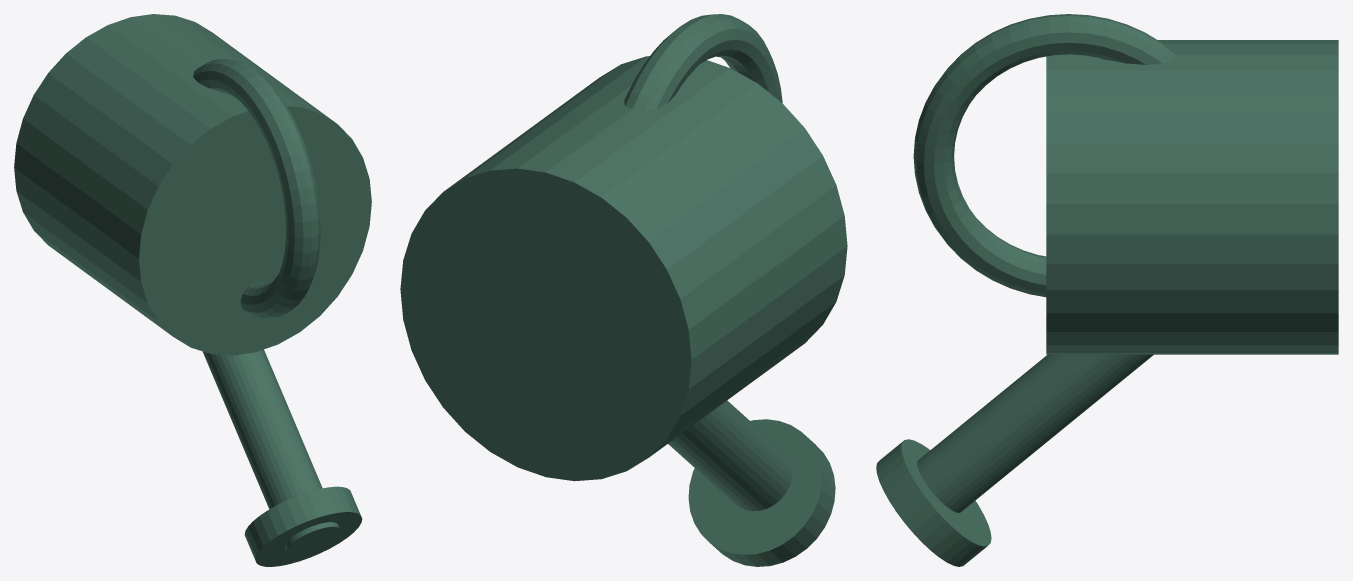
Rendered from prop_gembor.obj.
3 renders of one model, left to right at view 1: azimuth 30°, elevation 25°; view 2: azimuth 150°, elevation 25°; view 3: azimuth 270°, elevation 25°, orthographic. The views are drawn at different scales.
Parts seen in each view (by area): view 1: prop_gembor; view 2: prop_gembor; view 3: prop_gembor.
Boxes of the visible parts, x1,y1,x2,y2 form: prop_gembor: (14, 14, 371, 566); prop_gembor: (400, 14, 847, 566); prop_gembor: (876, 14, 1338, 566).
Size of the model in its own units: 0.28 by 0.5326 by 0.4113.
